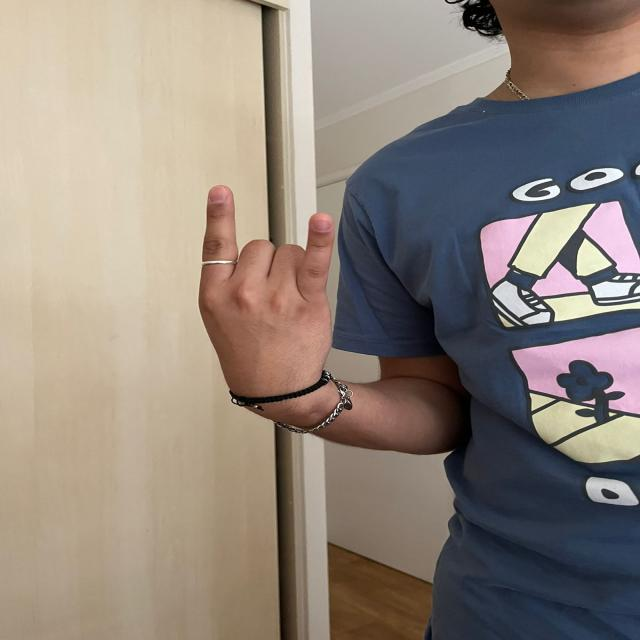U: (193, 179, 348, 401)
